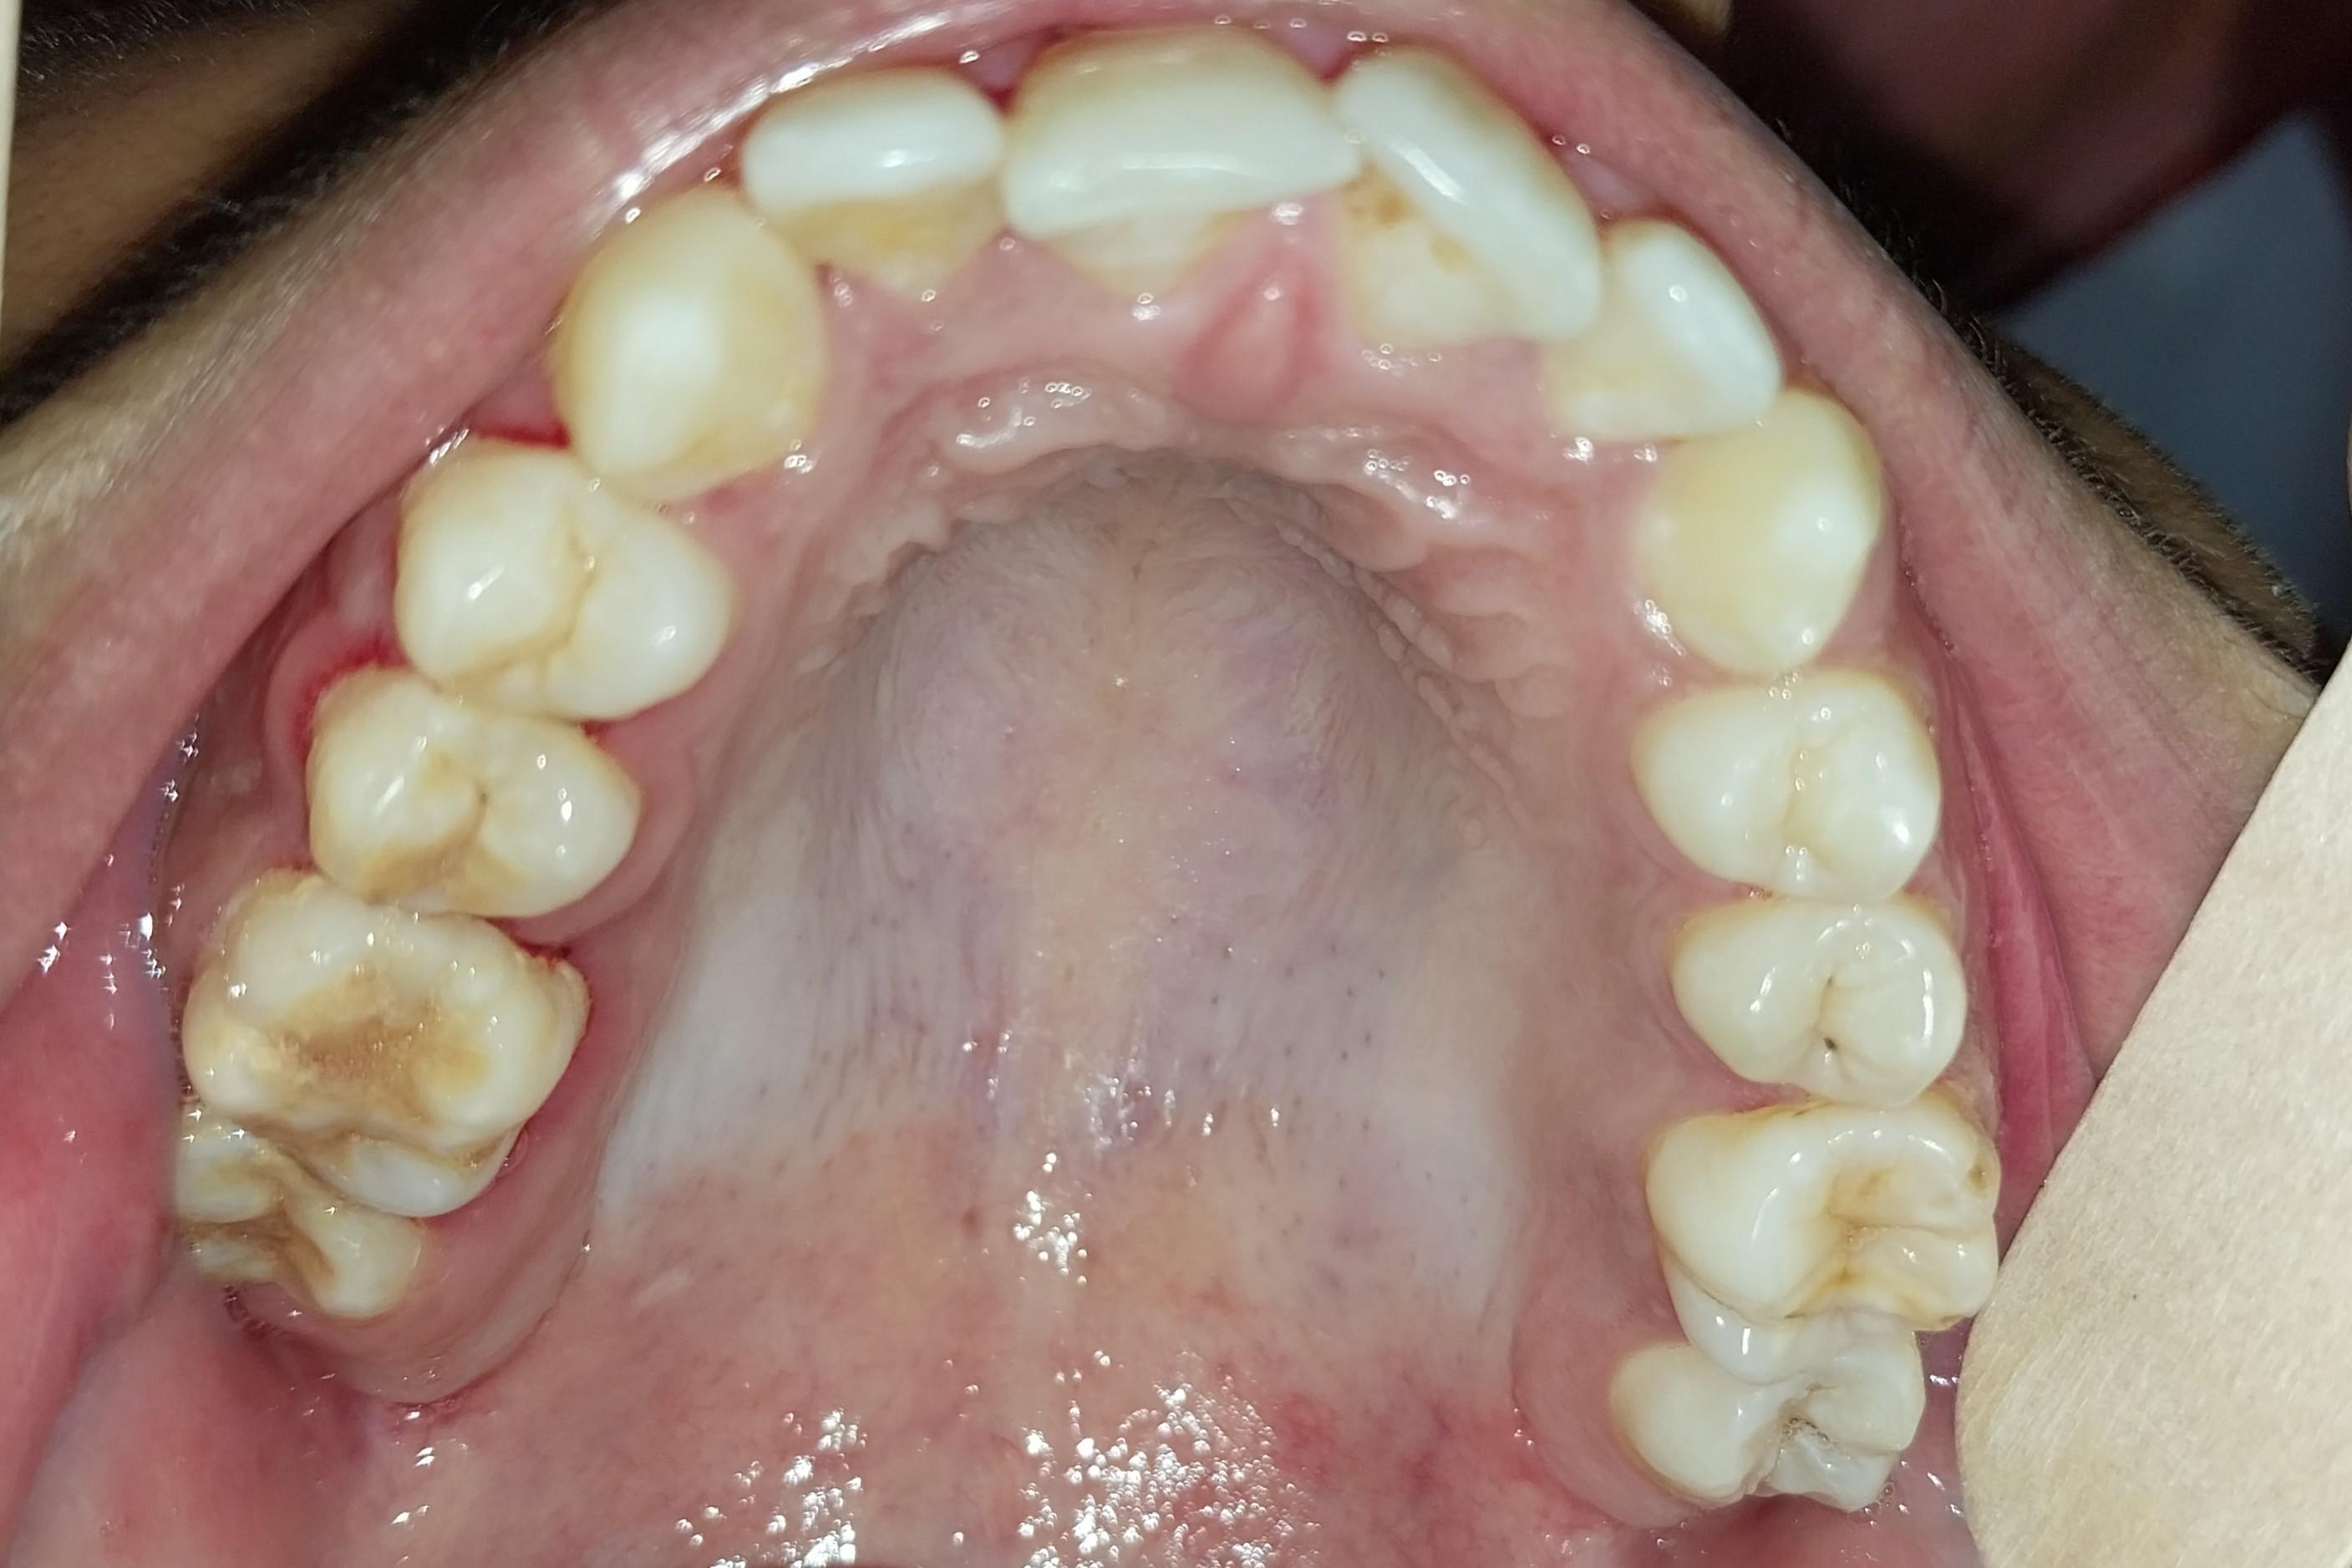D: (1675, 908, 1968, 1107)
